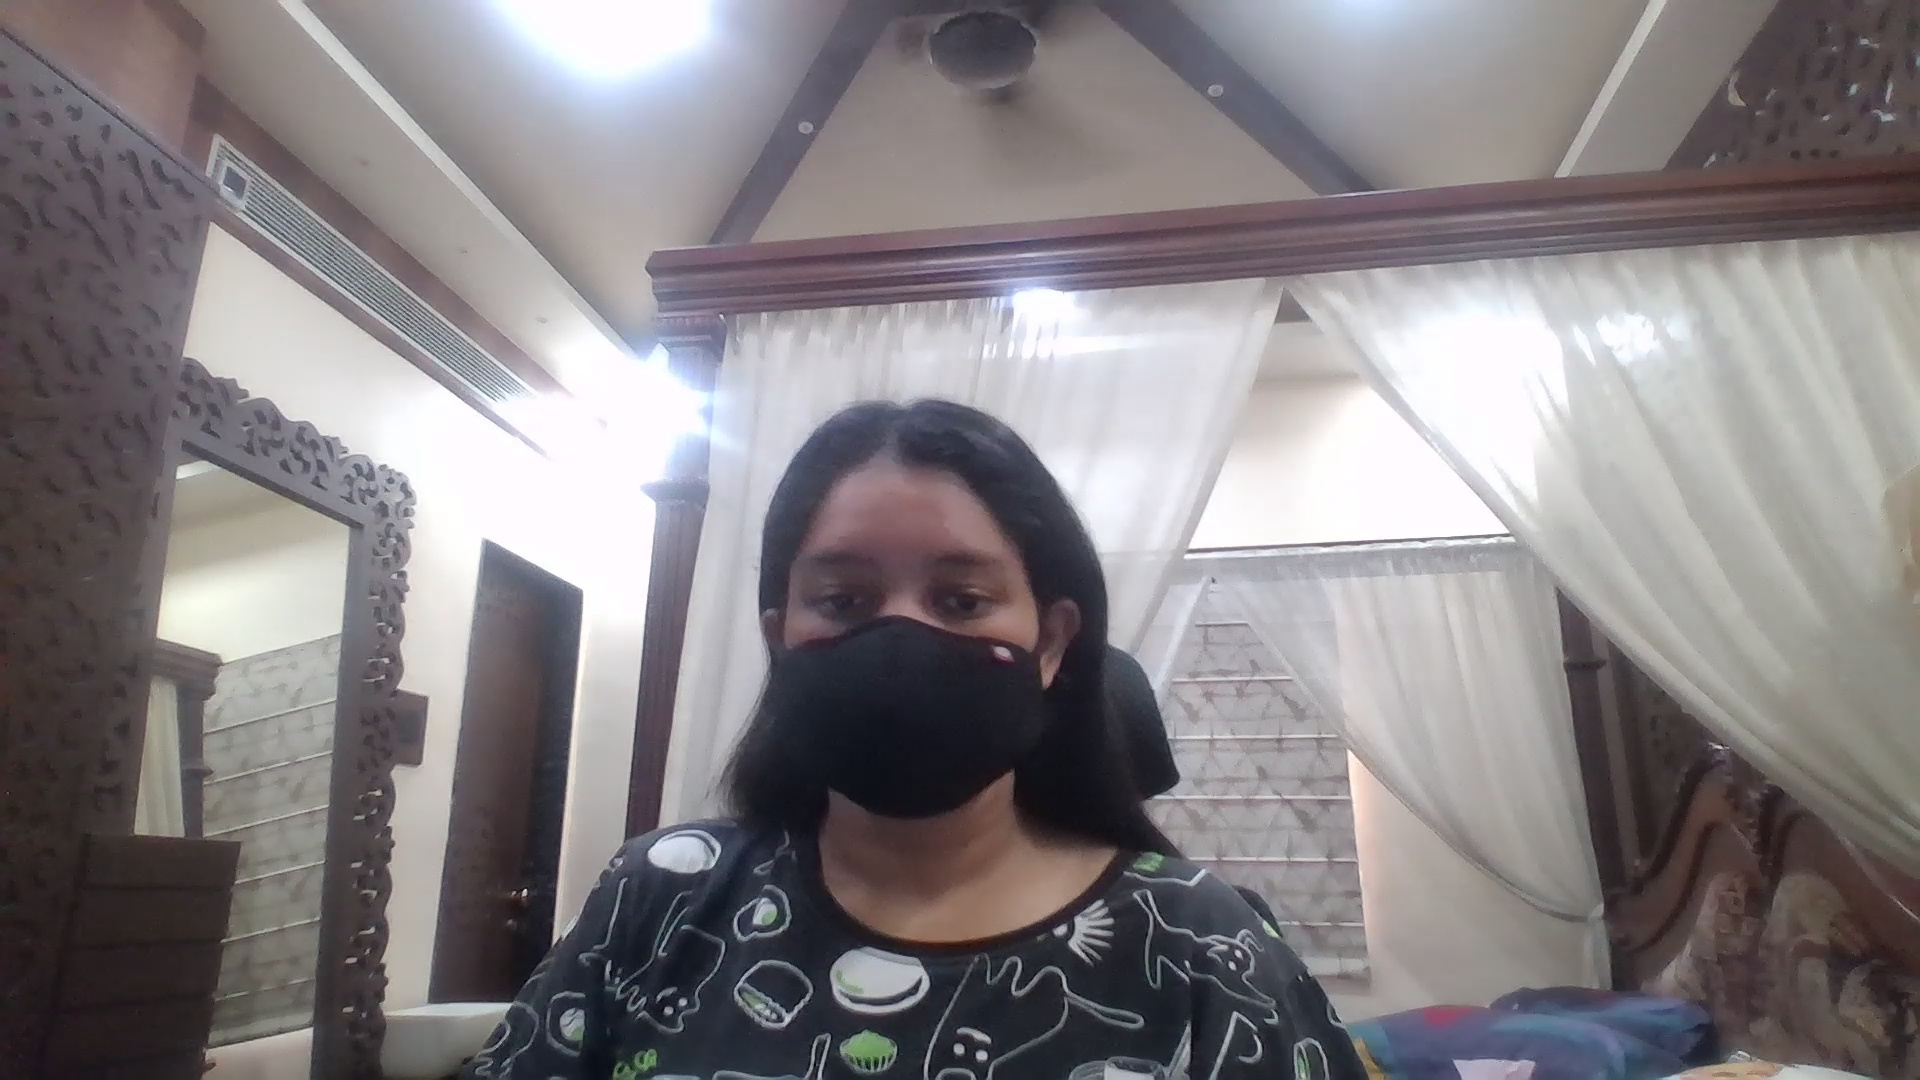Mask: (773, 622, 1039, 825)
